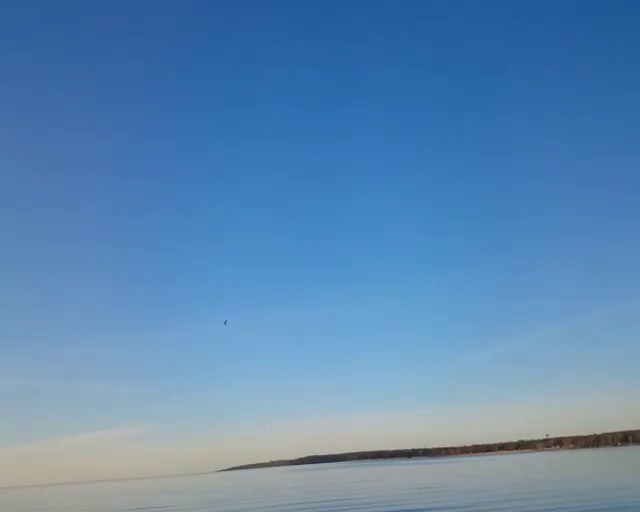BIRD: (222, 317, 230, 327)
